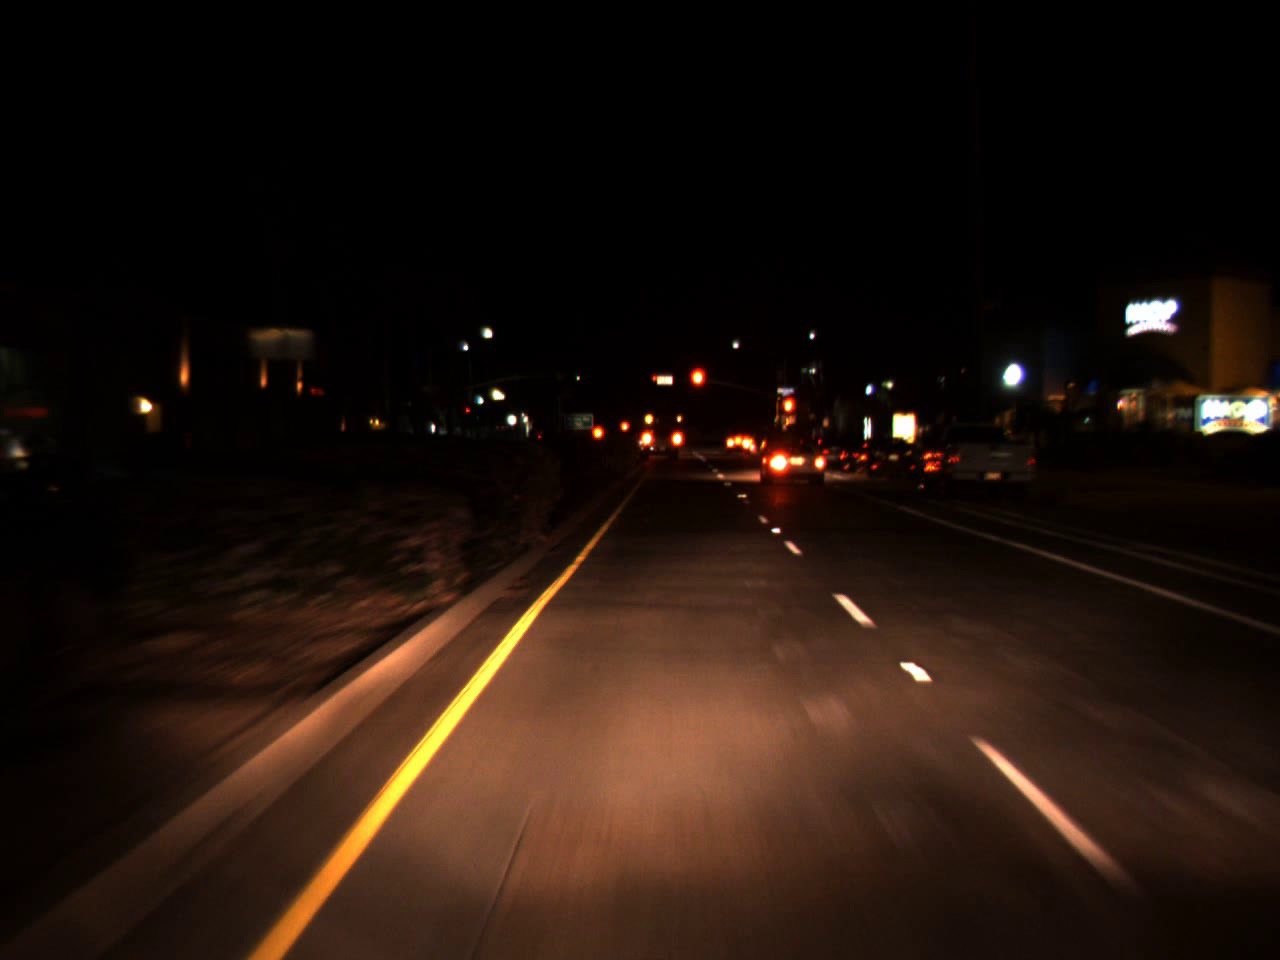stop: (687, 364, 706, 409), (781, 395, 796, 430), (651, 374, 658, 387)
